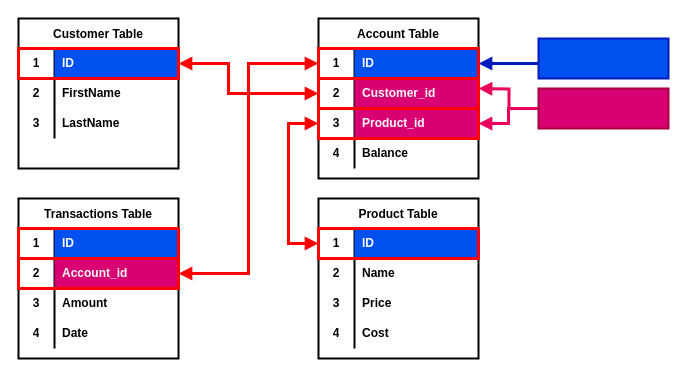
The diagram is 687 pixels wide and 376 high, and some of its shapes have lost their labels. The shapes that lost their labels are listed below. From the top down, each one's centre as x and y in pixels, then its label:
[603,58]: Primary Key
[603,108]: Foreign Key
